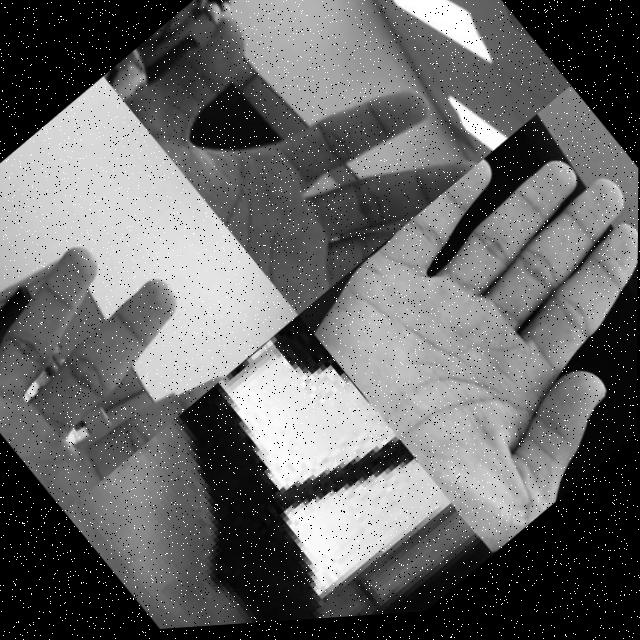hand: (297, 101, 639, 571), (119, 0, 478, 329), (0, 148, 235, 517), (64, 386, 316, 636)
